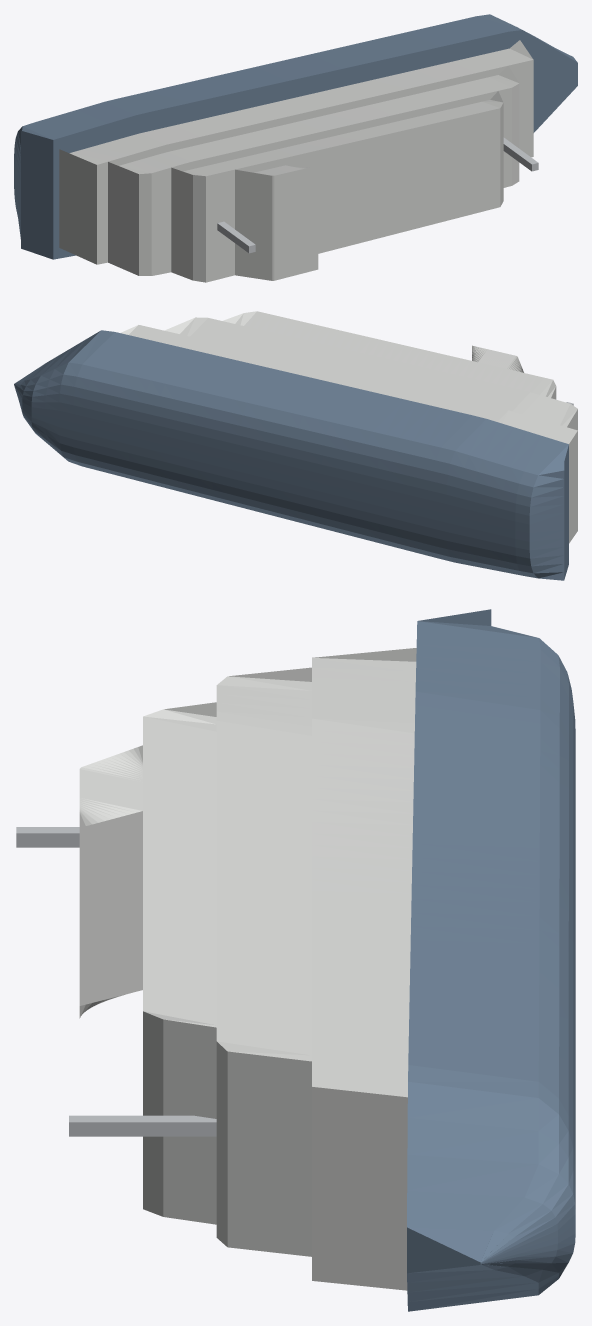
Rendered from loft-cruise-ship.glb.
The picture shows the model from 3 angles, top to bottom: view 1: azimuth 30°, elevation 25°; view 2: azimuth 150°, elevation 25°; view 3: azimuth 270°, elevation 25°; orthographic projection. The views are drawn at different scales.
Visible parts, largest first — view 1: cruise-ship; view 2: cruise-ship; view 3: cruise-ship.
Boxes of the visible parts, x1,y1,x2,y2 form: cruise-ship: (14,14,577,282); cruise-ship: (14,311,577,580); cruise-ship: (16,609,575,1311).
Bounding box in the file's own units: 1.95 × 0.439 × 0.8595.
